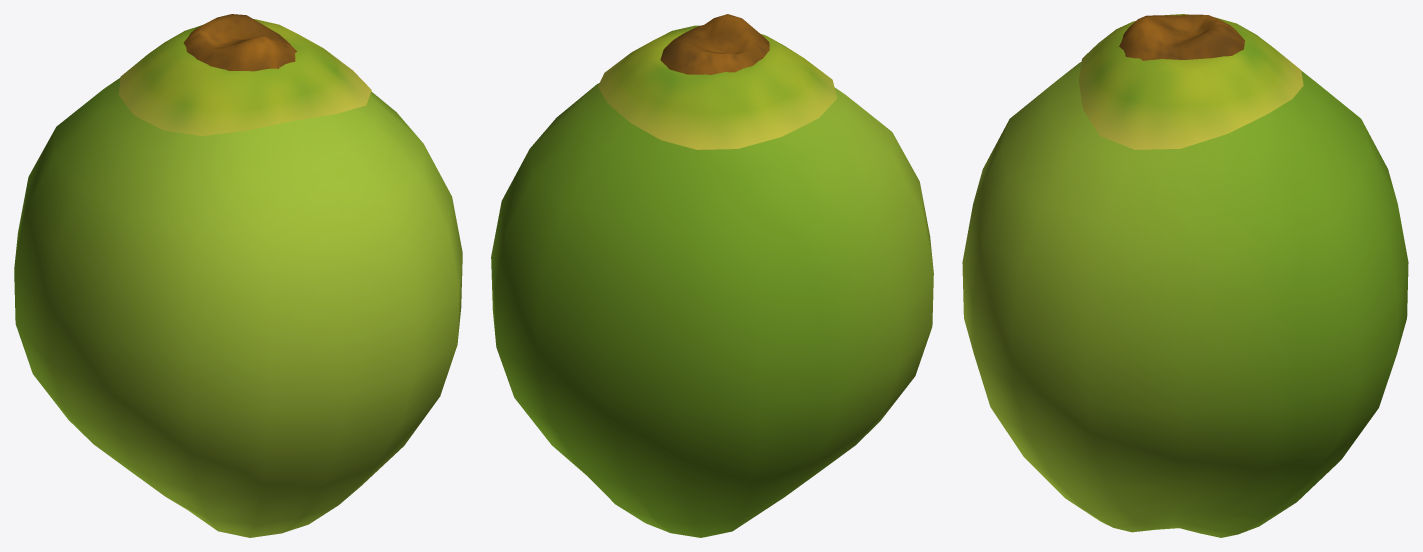
Rendered from Coconut.fbx.
3 renders of one model, left to right at view 1: azimuth 30°, elevation 25°; view 2: azimuth 150°, elevation 25°; view 3: azimuth 270°, elevation 25°, orthographic. The views are drawn at different scales.
Visible parts, largest first — view 1: coconut; view 2: coconut; view 3: coconut.
Part boxes in pixels (<box>): coconut: <box>14,14,462,537</box>; coconut: <box>491,14,933,537</box>; coconut: <box>962,14,1408,537</box>.
Size of the model in its own units: 649 by 799 by 642.
1 material, 1 textured.
